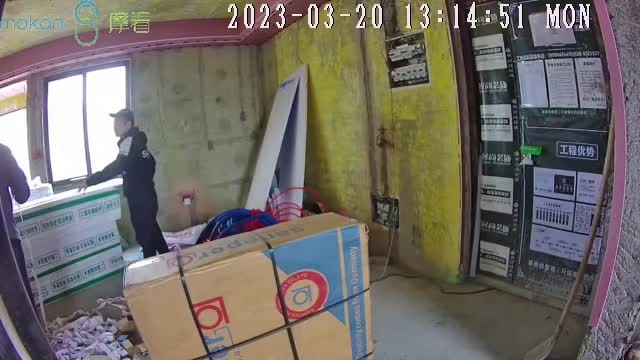people: (79, 108, 170, 256)
window: (44, 66, 134, 184)
